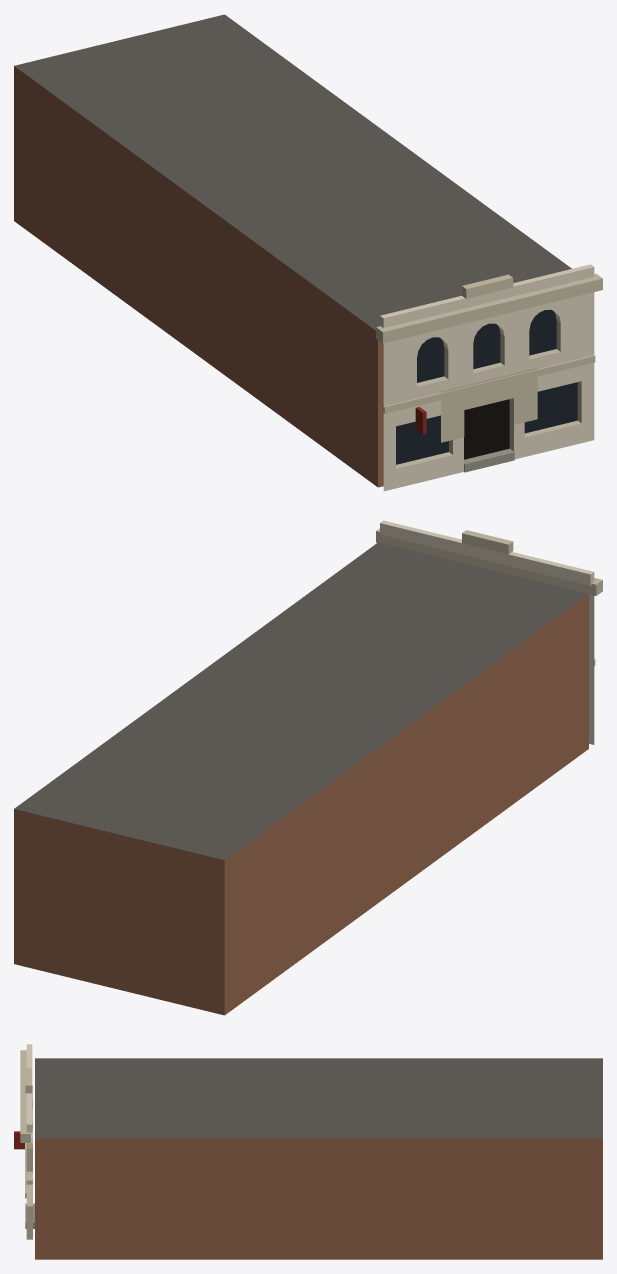
File: royal-theatre-1913.glb
3 views of the same model, one above another, from view 1: azimuth 30°, elevation 25°; view 2: azimuth 150°, elevation 25°; view 3: azimuth 270°, elevation 25° (orthographic). The views are drawn at different scales.
Visible parts, largest first — view 1: royal_roof, royal_brick, royal_face, royal_trim, royal_glass, royal_shadow, royal_base; view 2: royal_brick, royal_roof, royal_face, royal_trim; view 3: royal_brick, royal_roof, royal_trim, royal_face.
Boxes of the visible parts, x1,y1,x2,y2 form: royal_roof: (14, 14, 571, 330); royal_brick: (14, 66, 383, 487); royal_face: (380, 264, 594, 491); royal_trim: (376, 273, 602, 468); royal_glass: (396, 309, 577, 464); royal_shadow: (464, 399, 509, 459); royal_base: (464, 448, 514, 472); royal_brick: (14, 594, 588, 1015); royal_roof: (14, 542, 588, 860); royal_face: (380, 520, 594, 744); royal_trim: (376, 528, 602, 666); royal_brick: (35, 1138, 602, 1259); royal_roof: (35, 1058, 602, 1138); royal_trim: (20, 1050, 32, 1239); royal_face: (26, 1044, 32, 1133).
Size of the model in its own units: 14.1 by 11.2 by 41.9.
